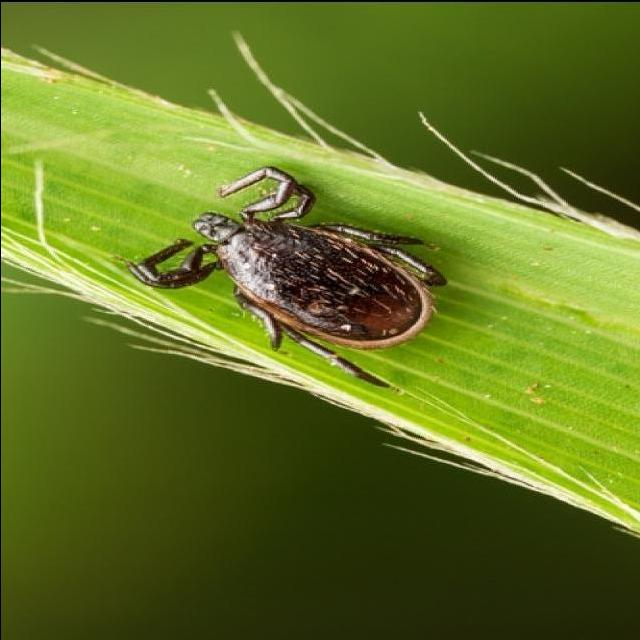Ixodes Ricinus-M: (127, 165, 448, 393)
